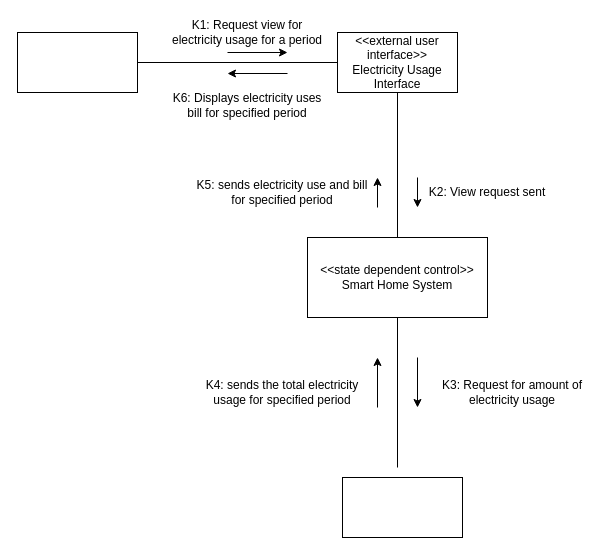
The diagram is 605 pixels wide and 555 high, and some of its shapes have lost their labels. Here are the shapes that lost their labels. From the top down, the centre of each, then its label:
At pixel 77 62: "<<external user>> Resident".
At pixel 402 507: "<<entity>> Block chain ledger".
